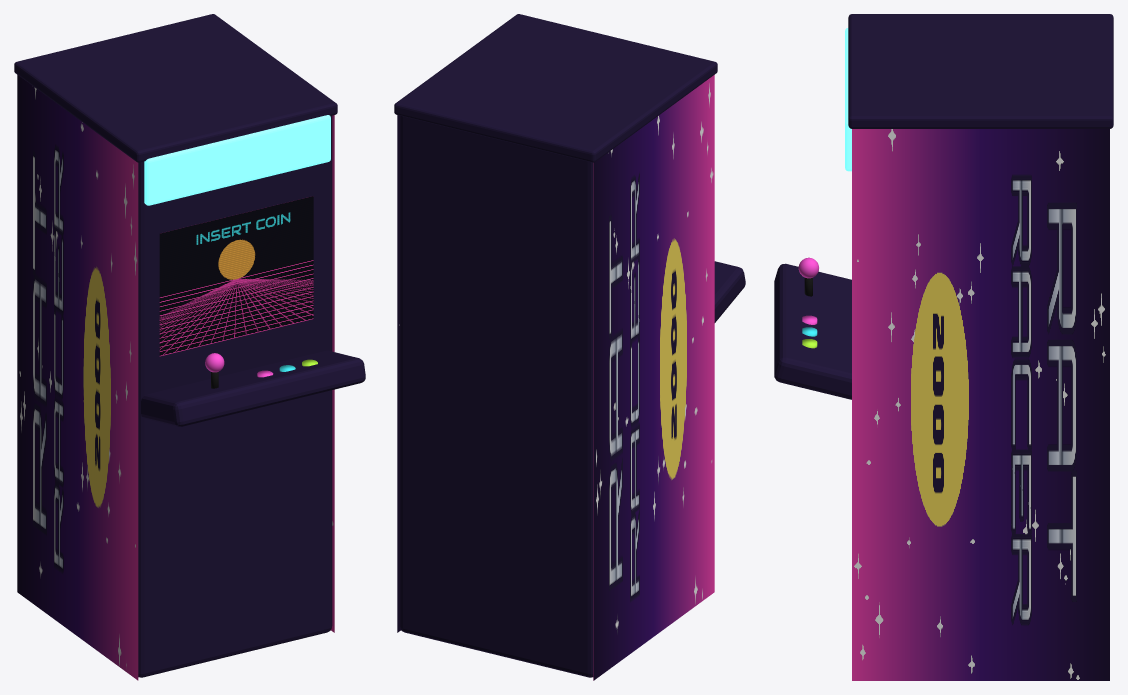
File: Tech_Arcade.fbx
The picture shows the model from 3 angles, left to right: view 1: azimuth 30°, elevation 25°; view 2: azimuth 150°, elevation 25°; view 3: azimuth 270°, elevation 25°; orthographic projection. The views are drawn at different scales.
Parts seen in each view (by area): view 1: Tech_Arcade; view 2: Tech_Arcade; view 3: Tech_Arcade.
Part boxes in pixels (bbox=[...]): Tech_Arcade: bbox=[14, 14, 365, 680]; Tech_Arcade: bbox=[394, 14, 745, 680]; Tech_Arcade: bbox=[774, 14, 1113, 680].
Size of the model in its own units: 0.72 by 1.81 by 0.9851.
Materials: 8 (2 with a texture image).
